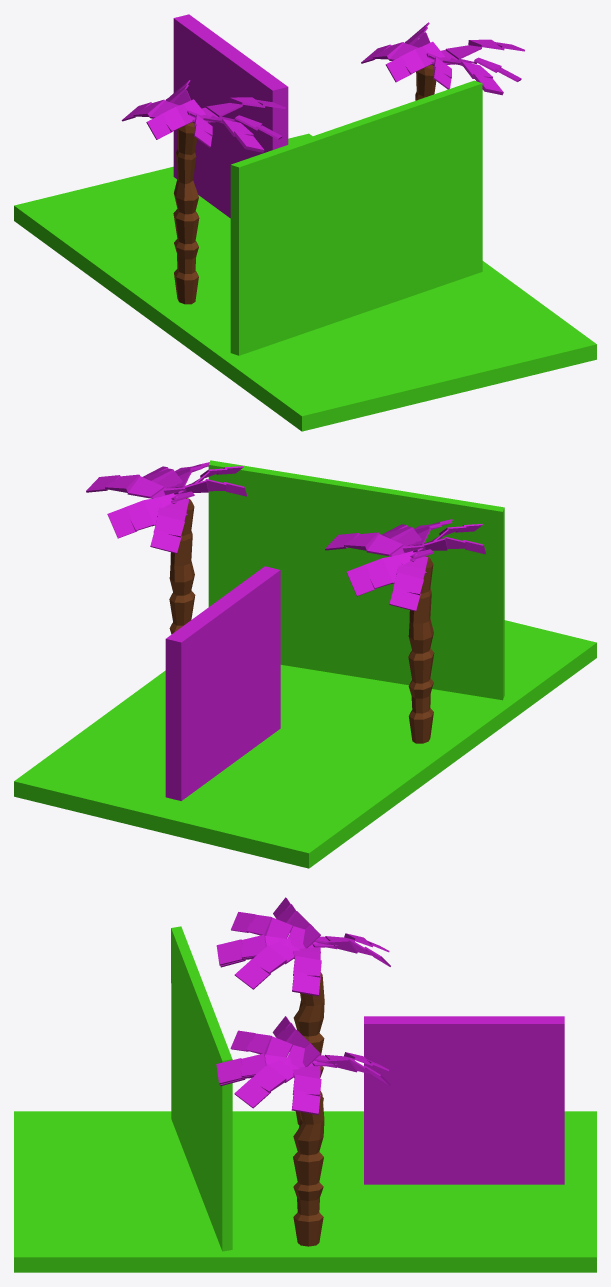
The model's file is float9.fbx.
3 views of the same model, one above another, from view 1: azimuth 30°, elevation 25°; view 2: azimuth 150°, elevation 25°; view 3: azimuth 270°, elevation 25° (orthographic).
Parts seen in each view (by area): view 1: Cube.078; view 2: Cube.078; view 3: Cube.078.
Boxes of the visible parts, left/top/right/bottom form: Cube.078: left=14, top=14, right=596, bottom=431; Cube.078: left=14, top=460, right=596, bottom=868; Cube.078: left=14, top=897, right=596, bottom=1272.
Size of the model in its own units: 1161 by 639 by 1517.
